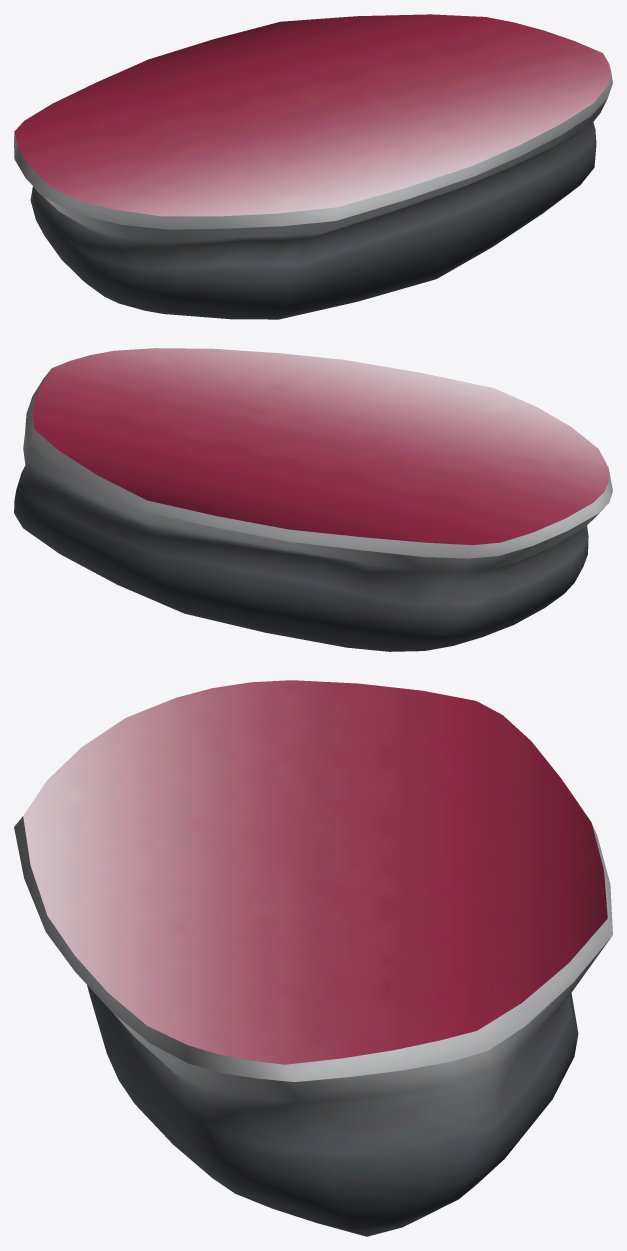
The model's file is M_TerrainBlock_07.fbx.
3 views of the same model, one above another, from view 1: azimuth 30°, elevation 25°; view 2: azimuth 150°, elevation 25°; view 3: azimuth 270°, elevation 25° (orthographic). The views are drawn at different scales.
Visible parts, largest first — view 1: M_TerrainBlock_07; view 2: M_TerrainBlock_07; view 3: M_TerrainBlock_07.
Boxes of the visible parts, x1,y1,x2,y2 form: M_TerrainBlock_07: (14, 14, 612, 319); M_TerrainBlock_07: (14, 348, 612, 651); M_TerrainBlock_07: (14, 680, 612, 1236).
Bounding box in the file's own units: 3013 × 803 × 1946.
1 material, 1 textured.
